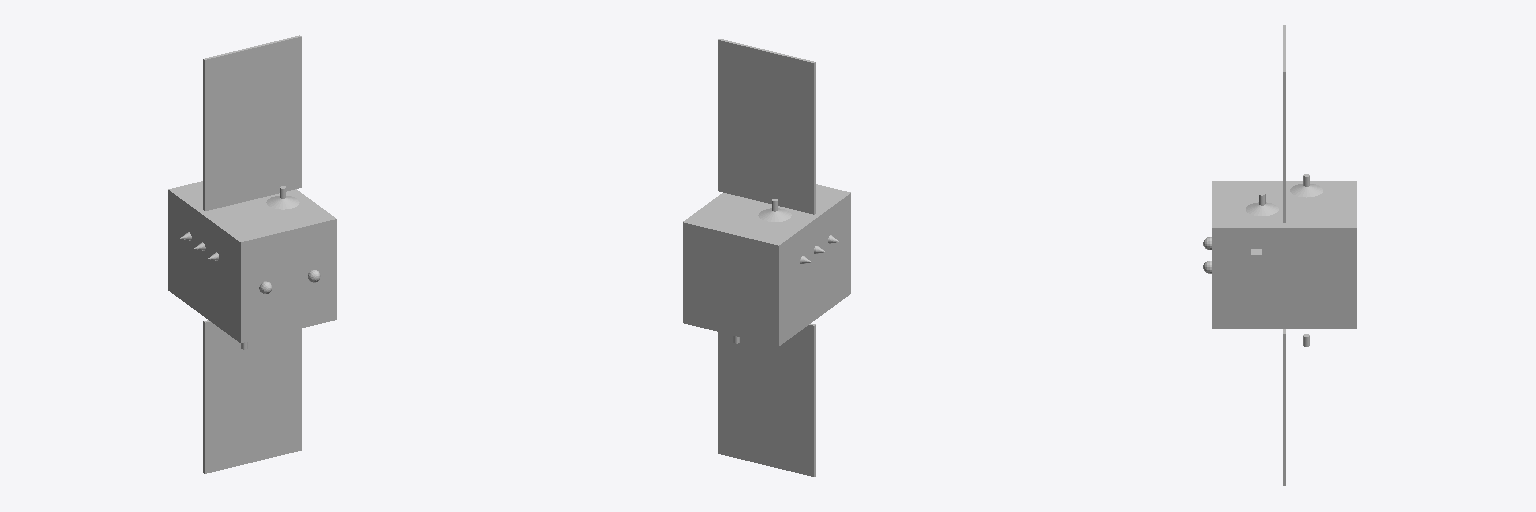
Rendered from oneweb.obj.
The picture shows the model from 3 angles: view 1: azimuth 30°, elevation 25°; view 2: azimuth 150°, elevation 25°; view 3: azimuth 270°, elevation 25°; orthographic projection.
Visible parts, largest first — view 1: bus, panel_right, panel_left; view 2: bus, panel_right, panel_left; view 3: bus, panel_right.
Boxes of the visible parts, x1,y1,x2,y2 form: bus: [168, 181, 336, 342]; panel_right: [203, 35, 301, 210]; panel_left: [203, 320, 301, 473]; bus: [683, 184, 850, 346]; panel_right: [718, 39, 815, 214]; panel_left: [718, 324, 815, 476]; bus: [1212, 181, 1356, 328]; panel_right: [1283, 25, 1285, 222].
Size of the model in its own units: 1.25 by 4.1 by 1.38.